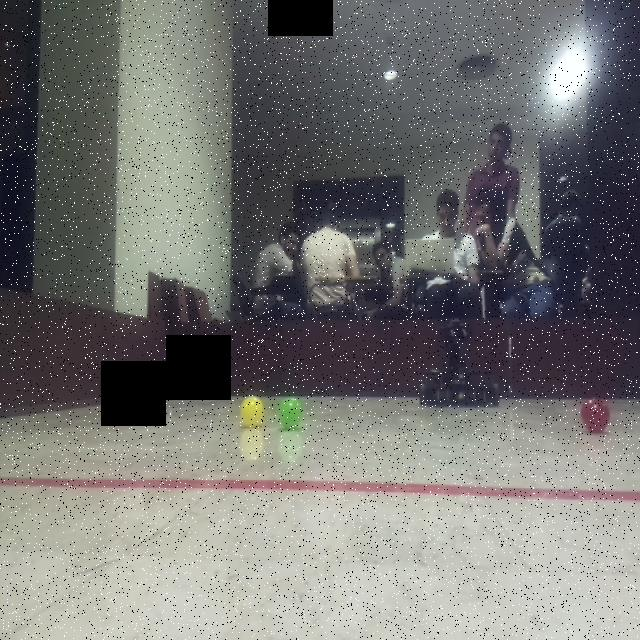ball: (578, 394, 613, 436), (236, 390, 270, 431), (278, 396, 306, 429)
